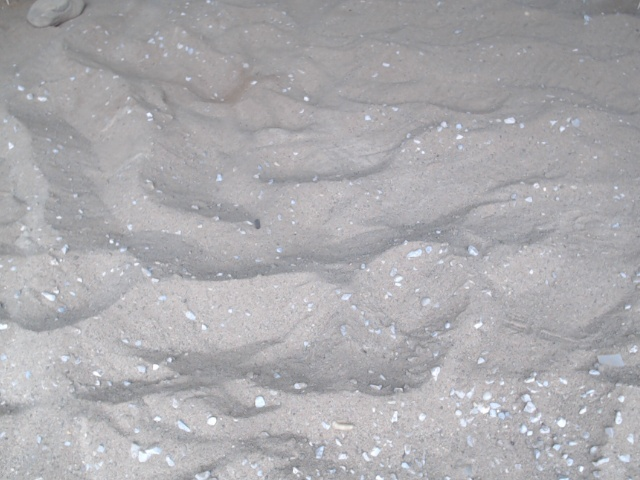rock: (19, 1, 92, 34)
